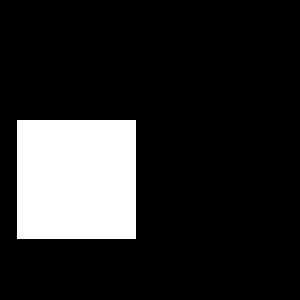circle: (17, 120, 136, 239)
